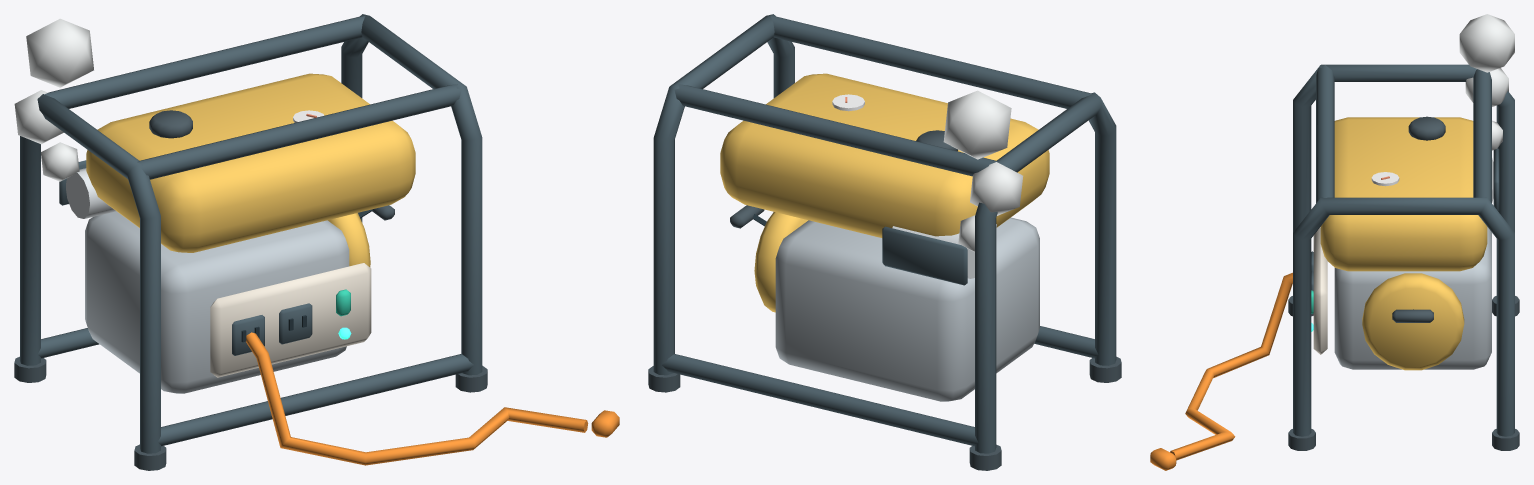
The model's file is prop_generator.glb.
3 renders of one model, left to right at view 1: azimuth 30°, elevation 25°; view 2: azimuth 150°, elevation 25°; view 3: azimuth 270°, elevation 25°, orthographic. The views are drawn at different scales.
Visible parts, largest first — view 1: Generator; view 2: Generator; view 3: Generator.
Boxes of the visible parts, <box> form: Generator: <box>14,14,619,470</box>; Generator: <box>648,14,1121,470</box>; Generator: <box>1150,14,1519,470</box>.
Size of the model in its own units: 0.8686 by 0.73 by 0.7982.
